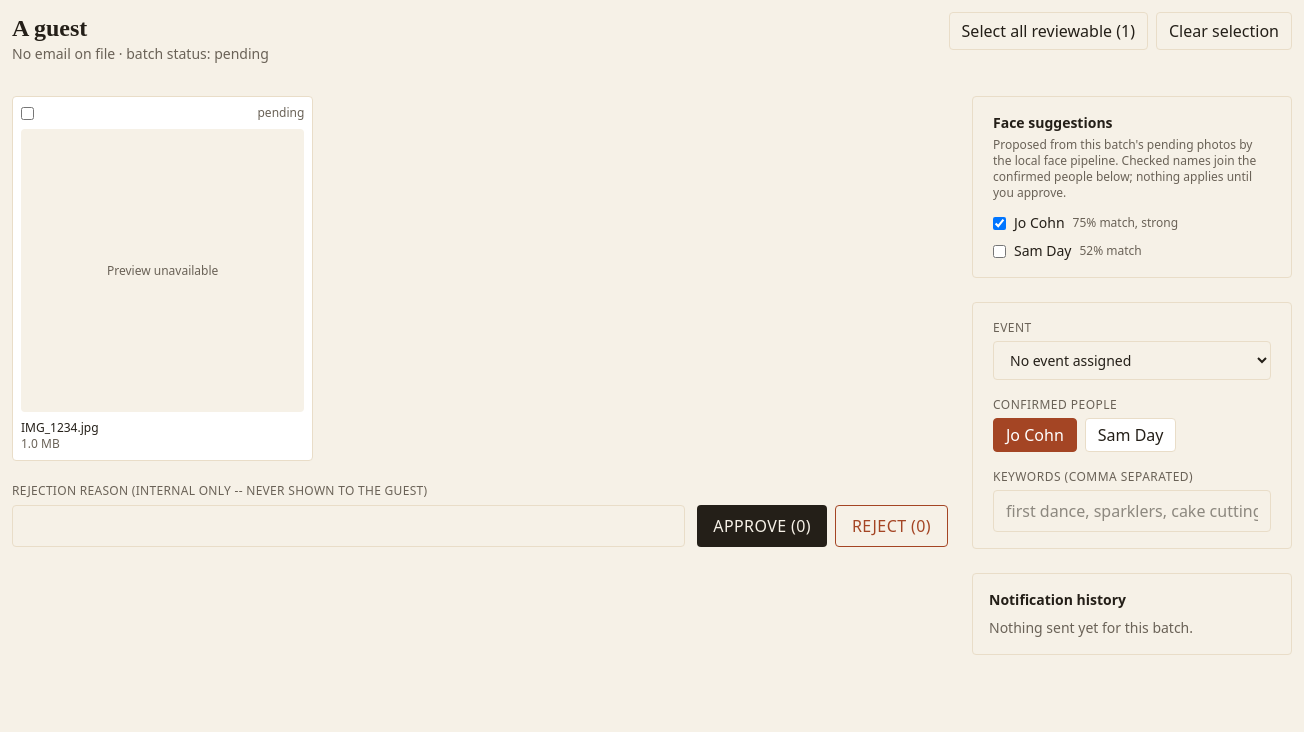
Test: BatchReviewer wiring › keeps the suggestion checkboxes and MetadataEditor's person chips as one shared state
The width and height of the screenshot is (1304, 732).
Click the checkbox labelled "Jo Cohn 75% match, strong" at (1000, 223), box [993,216,1006,230]
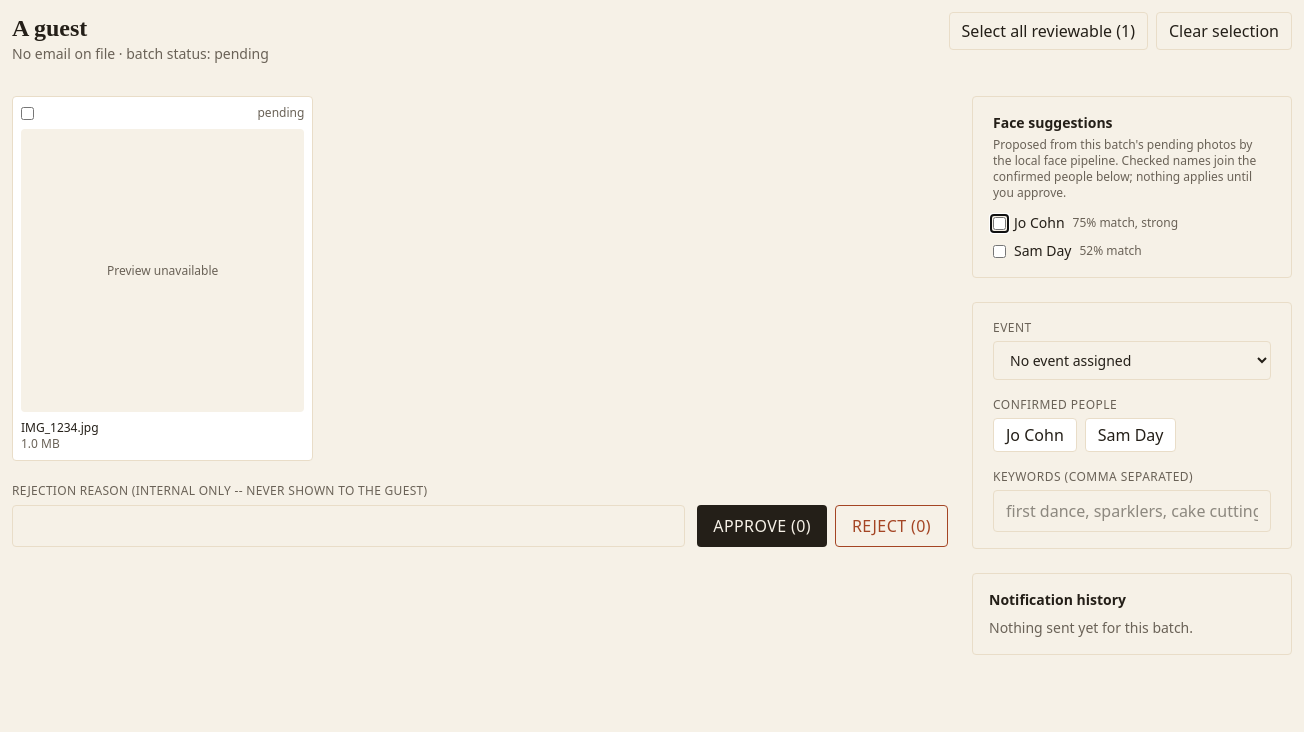
Now the checkbox labelled "Jo Cohn 75% match, strong" is not checked, box [993,216,1006,230]
Click the button "Sam Day" at (1131, 435), box [1085,418,1176,452]
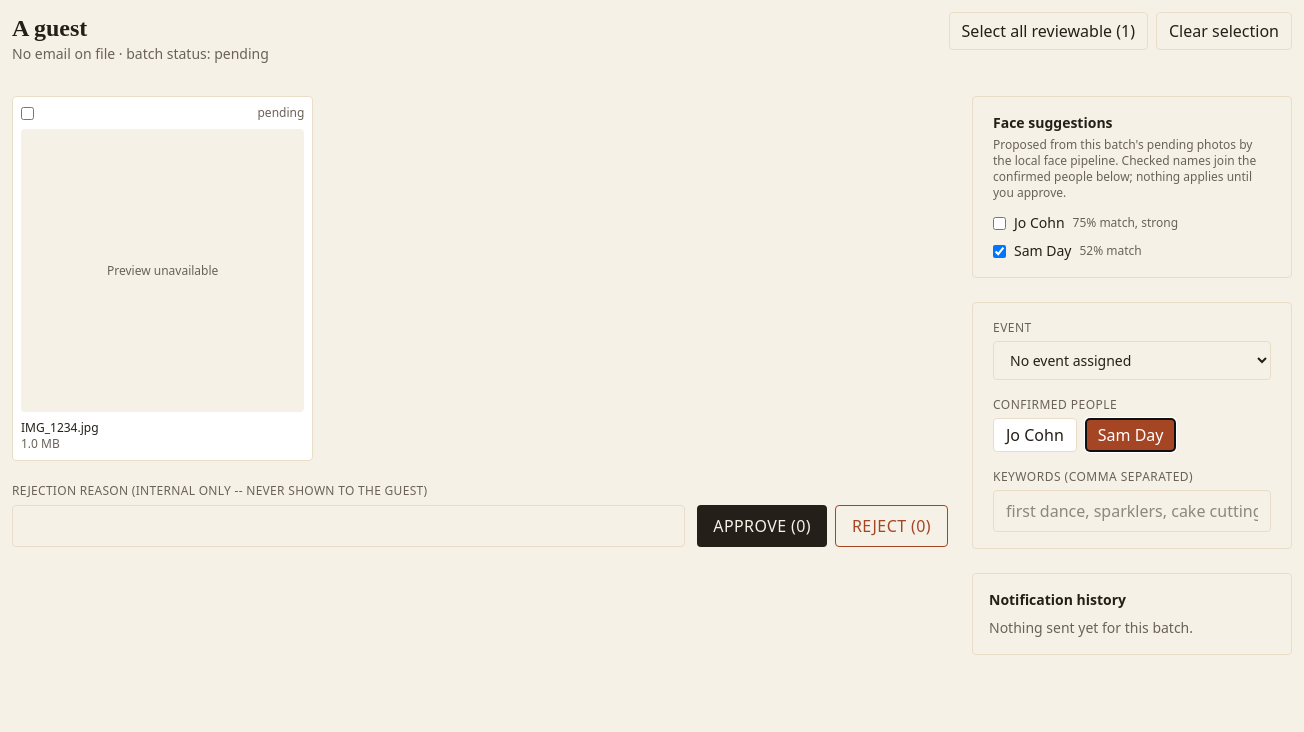
Now the checkbox labelled "Sam Day 52% match" is checked, box [993,244,1006,258]
